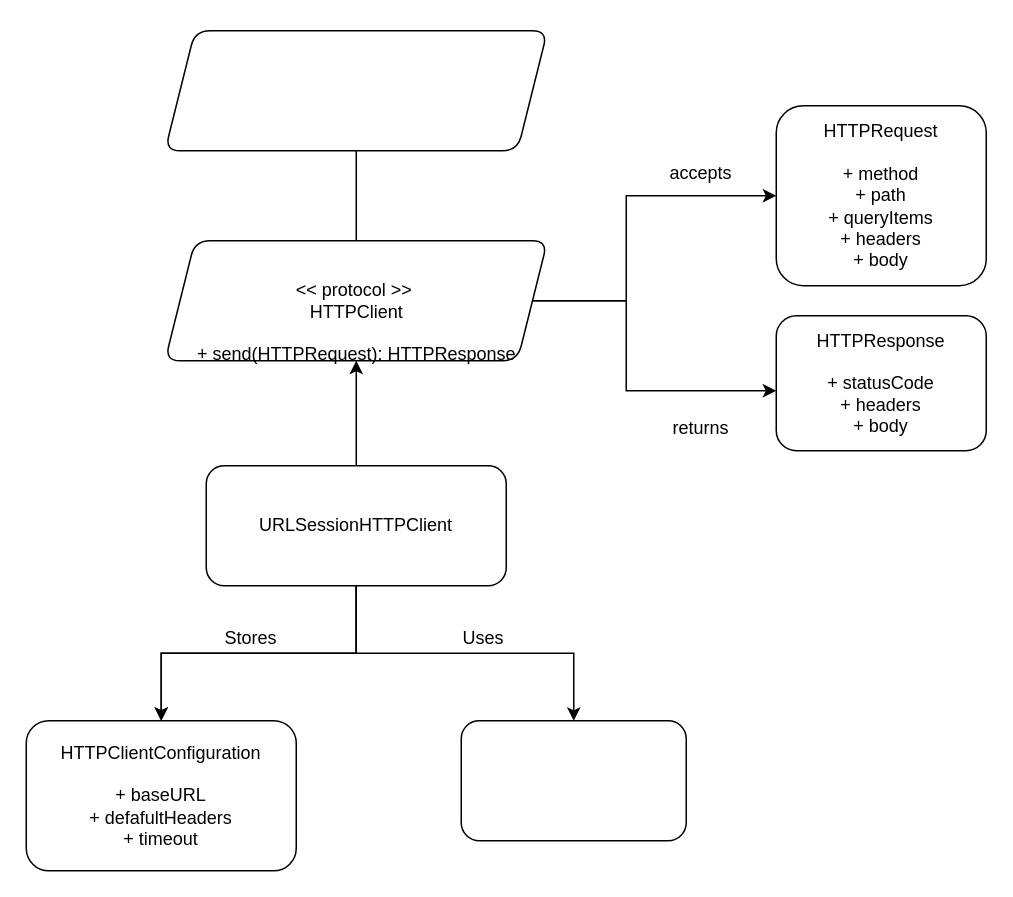
Some shapes in this 1013 by 897 pixel diagram are drawn without their labels. The shapes that lost their labels are listed below. From the top down, each one's box as (x1, y1, x2, y2) in pixels, then its label:
(164, 29, 548, 151): << extension >> HTTPClient + sendAndDecode<T>(...): T
(460, 719, 686, 841): URLSession
